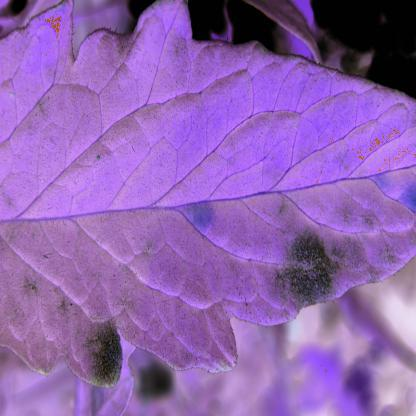Tomato mold leaf: (0, 4, 415, 393)
